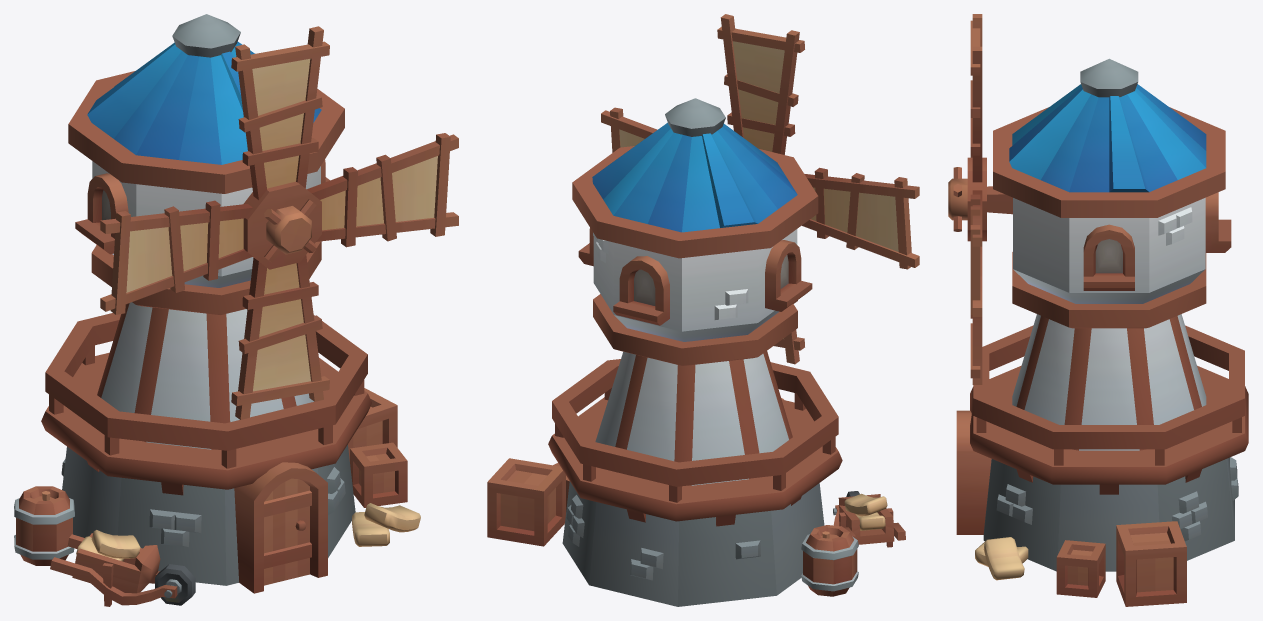
File: windmill_blue.glb
3 renders of one model, left to right at view 1: azimuth 30°, elevation 25°; view 2: azimuth 150°, elevation 25°; view 3: azimuth 270°, elevation 25°, orthographic. The views are drawn at different scales.
Visible parts, largest first — view 1: building_windmill_blue, building_windmill_top_fan_blue, building_windmill_top_blue; view 2: building_windmill_blue, building_windmill_top_blue, building_windmill_top_fan_blue; view 3: building_windmill_blue, building_windmill_top_blue, building_windmill_top_fan_blue.
Boxes of the visible parts, x1,y1,x2,y2 form: building_windmill_blue: (14,302,420,606); building_windmill_top_fan_blue: (100,26,458,419); building_windmill_top_blue: (68,14,344,314); building_windmill_blue: (487,351,905,606); building_windmill_top_blue: (572,98,818,365); building_windmill_top_fan_blue: (601,14,919,364); building_windmill_blue: (956,314,1248,606); building_windmill_top_blue: (987,58,1231,328); building_windmill_top_fan_blue: (948,14,986,384).
Size of the model in its own units: 1.13 by 1.46 by 0.8165.
1 material, 1 textured.
